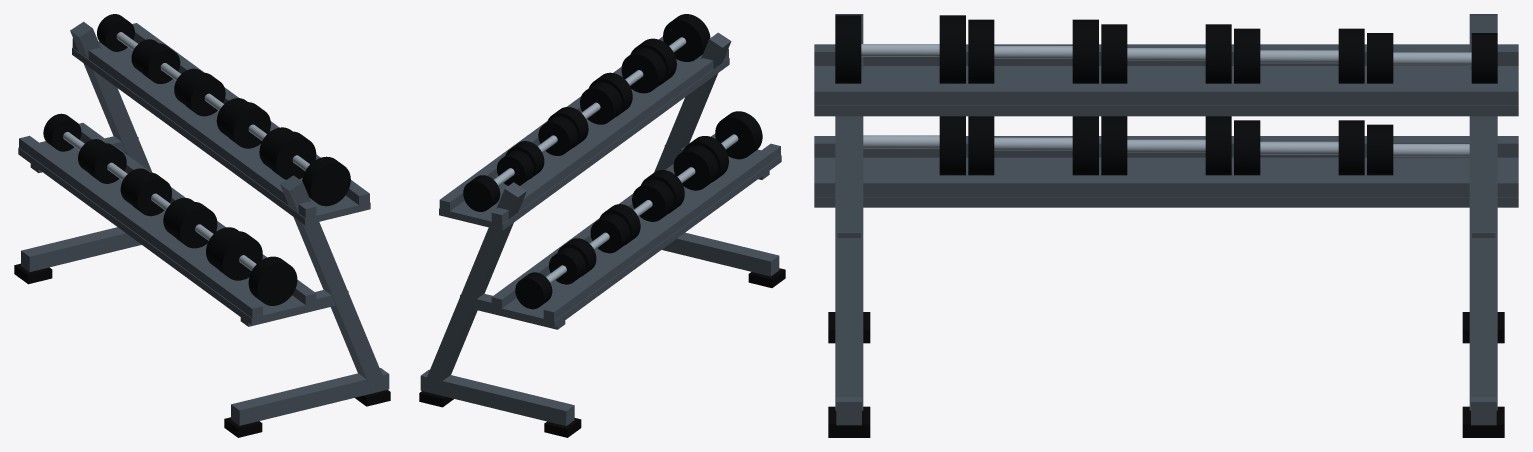
File: cad_dumbbell_rack.glb
3 views of the same model, side by side, from view 1: azimuth 30°, elevation 25°; view 2: azimuth 150°, elevation 25°; view 3: azimuth 270°, elevation 25° (orthographic). The views are drawn at different scales.
Visible parts, largest first — view 1: 008_Dumbbell shelf lip, 010_Dumbbell shelf tray, 006_Sloping rack upright, 028_Dumbbell shelf tray, 026_Dumbbell shelf lip, 007_Rack lower foot, 002_Sloping rack upright, 003_Rack lower foot, 025_Dumbbell circular head, 043_Dumbbell circular head, 024_Dumbbell circular head, 042_Dumbbell circular head (+20 smaller); view 2: 008_Dumbbell shelf lip, 010_Dumbbell shelf tray, 002_Sloping rack upright, 028_Dumbbell shelf tray, 026_Dumbbell shelf lip, 003_Rack lower foot, 006_Sloping rack upright, 007_Rack lower foot, 025_Dumbbell circular head, 043_Dumbbell circular head, 040_Dumbbell circular head, 022_Dumbbell circular head (+22 smaller); view 3: 028_Dumbbell shelf tray, 027_Dumbbell shelf lip, 010_Dumbbell shelf tray, 009_Dumbbell shelf lip, 002_Sloping rack upright, 006_Sloping rack upright, 008_Dumbbell shelf lip, 026_Dumbbell shelf lip, 042_Dumbbell circular head, 043_Dumbbell circular head, 039_Dumbbell circular head, 040_Dumbbell circular head (+28 smaller).
Boxes of the visible parts, x1,y1,x2,y2 form: 008_Dumbbell shelf lip: (19,135,262,322); 010_Dumbbell shelf tray: (18,140,316,324); 006_Sloping rack upright: (280,175,385,391); 028_Dumbbell shelf tray: (72,41,370,225); 026_Dumbbell shelf lip: (72,38,316,222); 007_Rack lower foot: (231,368,389,425); 002_Sloping rack upright: (70,21,152,172); 003_Rack lower foot: (21,227,141,272); 025_Dumbbell circular head: (248,256,297,305); 043_Dumbbell circular head: (302,156,350,206); 024_Dumbbell circular head: (214,231,262,280); 042_Dumbbell circular head: (267,131,316,179); 008_Dumbbell shelf lip: (543,143,780,325); 010_Dumbbell shelf tray: (491,149,781,327); 002_Sloping rack upright: (424,182,526,392); 028_Dumbbell shelf tray: (439,54,729,230); 026_Dumbbell shelf lip: (491,49,728,228); 003_Rack lower foot: (420,369,574,426); 006_Sloping rack upright: (654,32,731,172); 007_Rack lower foot: (662,232,779,276); 025_Dumbbell circular head: (715,111,762,159); 043_Dumbbell circular head: (663,14,710,61); 040_Dumbbell circular head: (621,48,666,93); 022_Dumbbell circular head: (673,145,718,190); 028_Dumbbell shelf tray: (814,66,1518,116); 027_Dumbbell shelf lip: (814,83,1518,105); 010_Dumbbell shelf tray: (814,157,1518,207); 009_Dumbbell shelf lip: (814,175,1518,197); 002_Sloping rack upright: (1469,14,1497,410); 006_Sloping rack upright: (835,14,863,410); 008_Dumbbell shelf lip: (814,136,1518,157); 026_Dumbbell shelf lip: (814,44,1518,65); 042_Dumbbell circular head: (939,15,965,83); 043_Dumbbell circular head: (835,15,861,83); 039_Dumbbell circular head: (1072,19,1098,83); 040_Dumbbell circular head: (968,19,994,83).
Size of the model in its own units: 0.575 by 0.8915 by 1.51.
